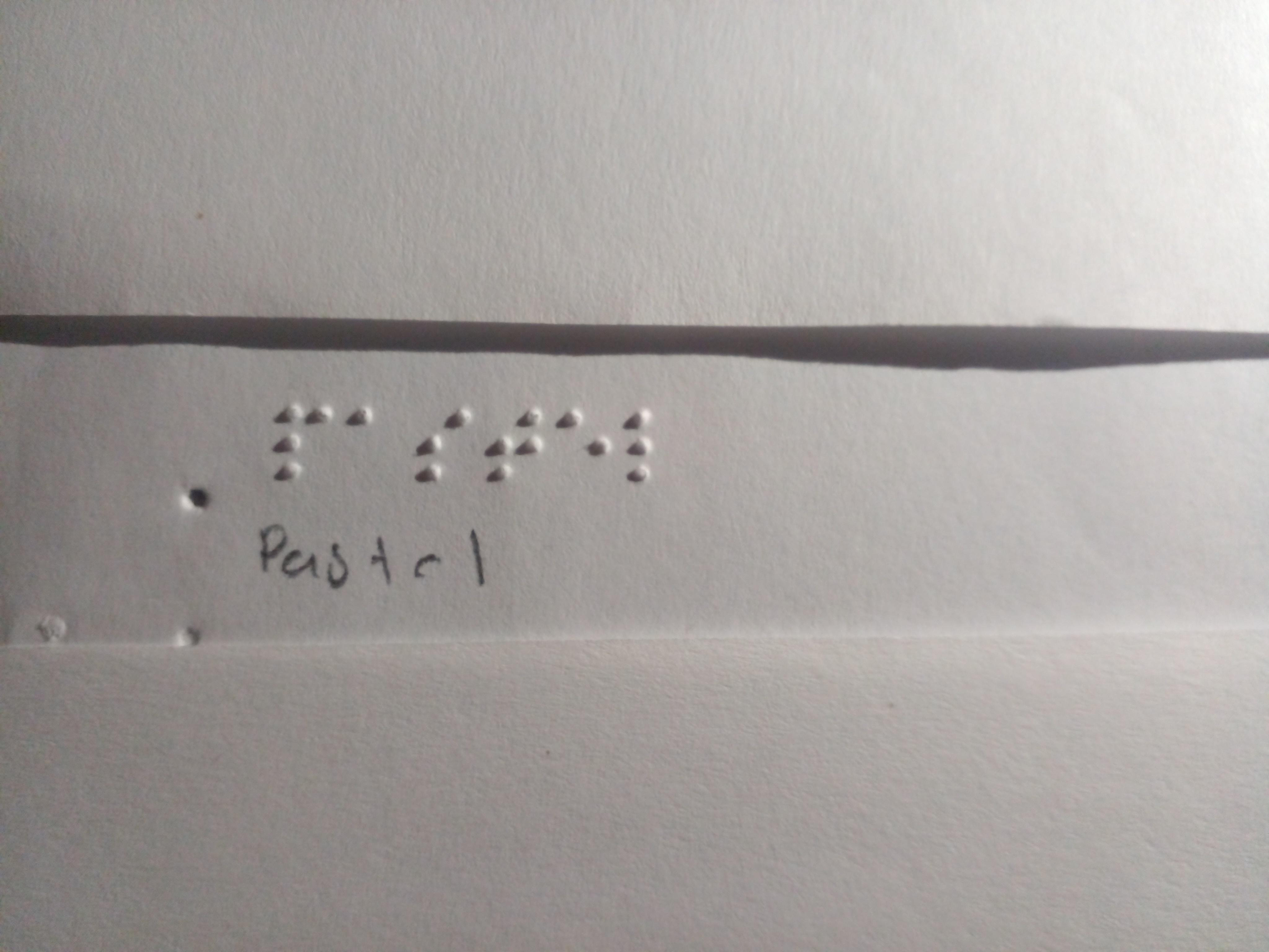a: (341, 395, 386, 446)
e: (553, 398, 618, 476)
l: (620, 401, 657, 487)
p: (262, 389, 338, 487)
s: (407, 398, 477, 487)
t: (485, 400, 550, 488)
